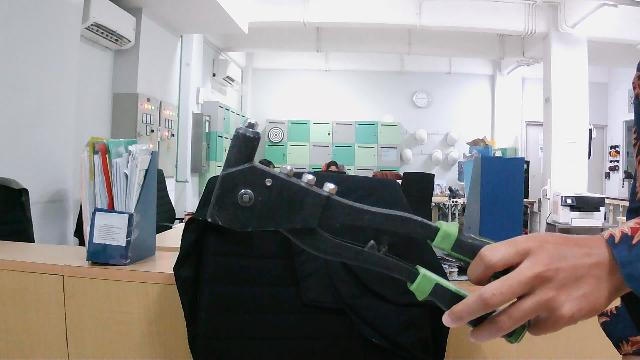tang_rivet: (201, 107, 602, 350)
